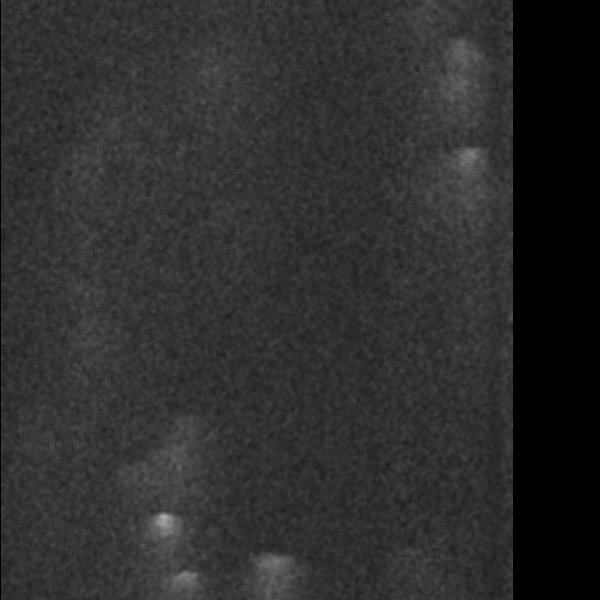spark: (17, 150, 126, 179), (1, 347, 51, 392), (1, 497, 44, 546), (1, 186, 49, 213), (355, 7, 384, 43), (1, 579, 49, 600)
